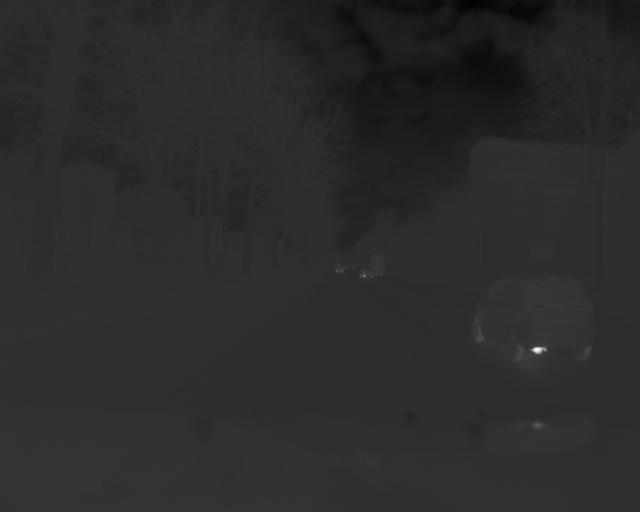car: (469, 274, 598, 364)
